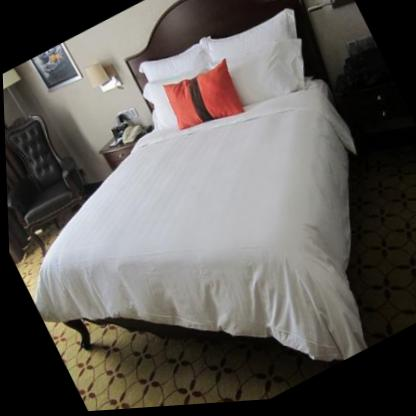Bed: (32, 0, 366, 366)
Carpet: (42, 321, 336, 412)
Chair: (3, 99, 105, 260)
